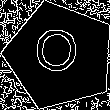O_S: (36, 29, 84, 83)
